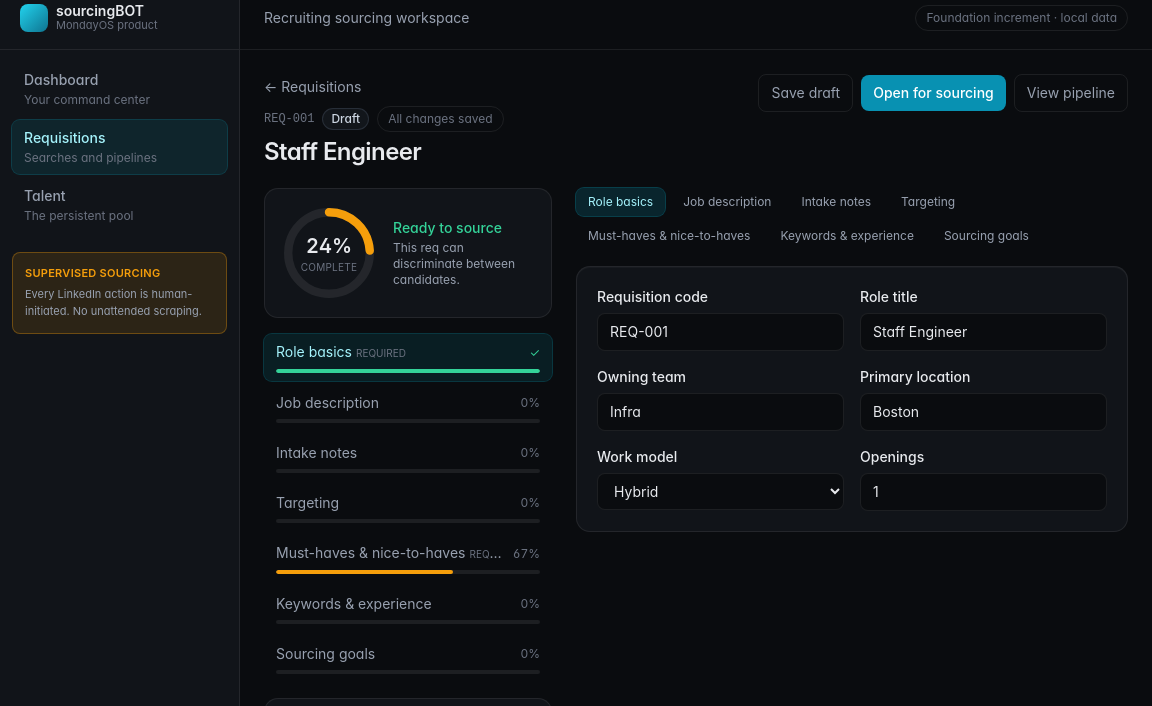
Test: the authoring surface › switches sections without losing the req
This screenshot has width=1152, height=706.
Click the tab "Job description" at point(727, 202), box [671,188,784,216]
(page scrolled)
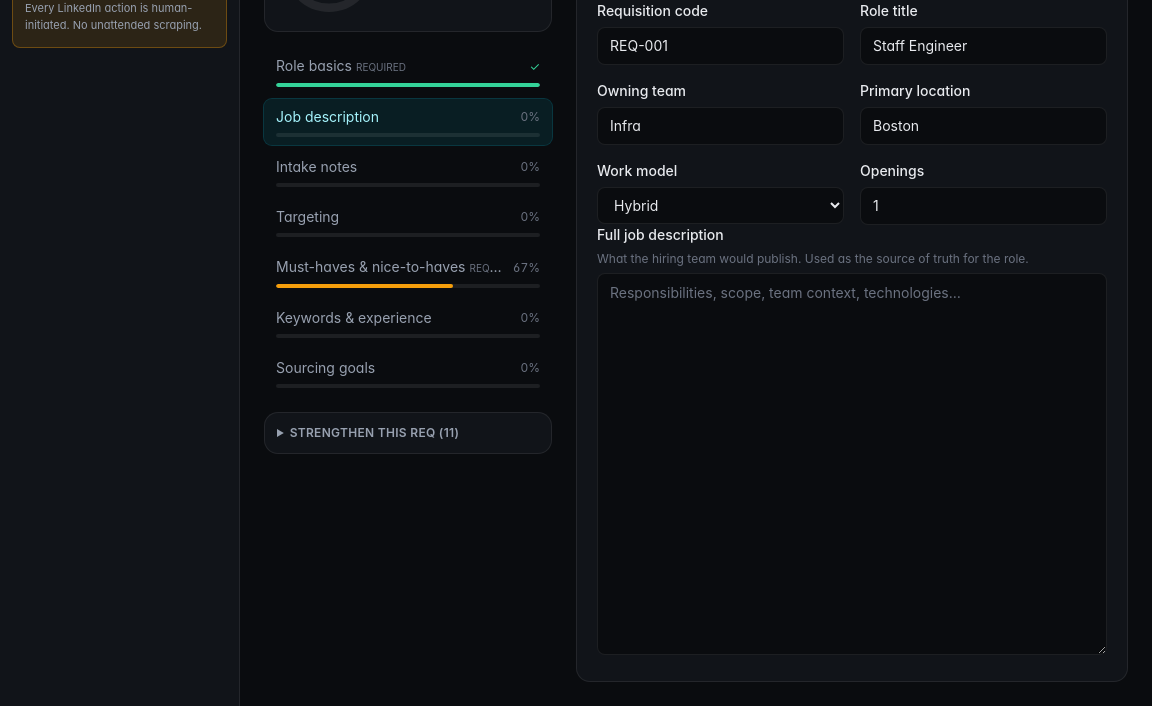
Check: the text box labelled "Full job description" is shown, box [597,273,1107,655]
